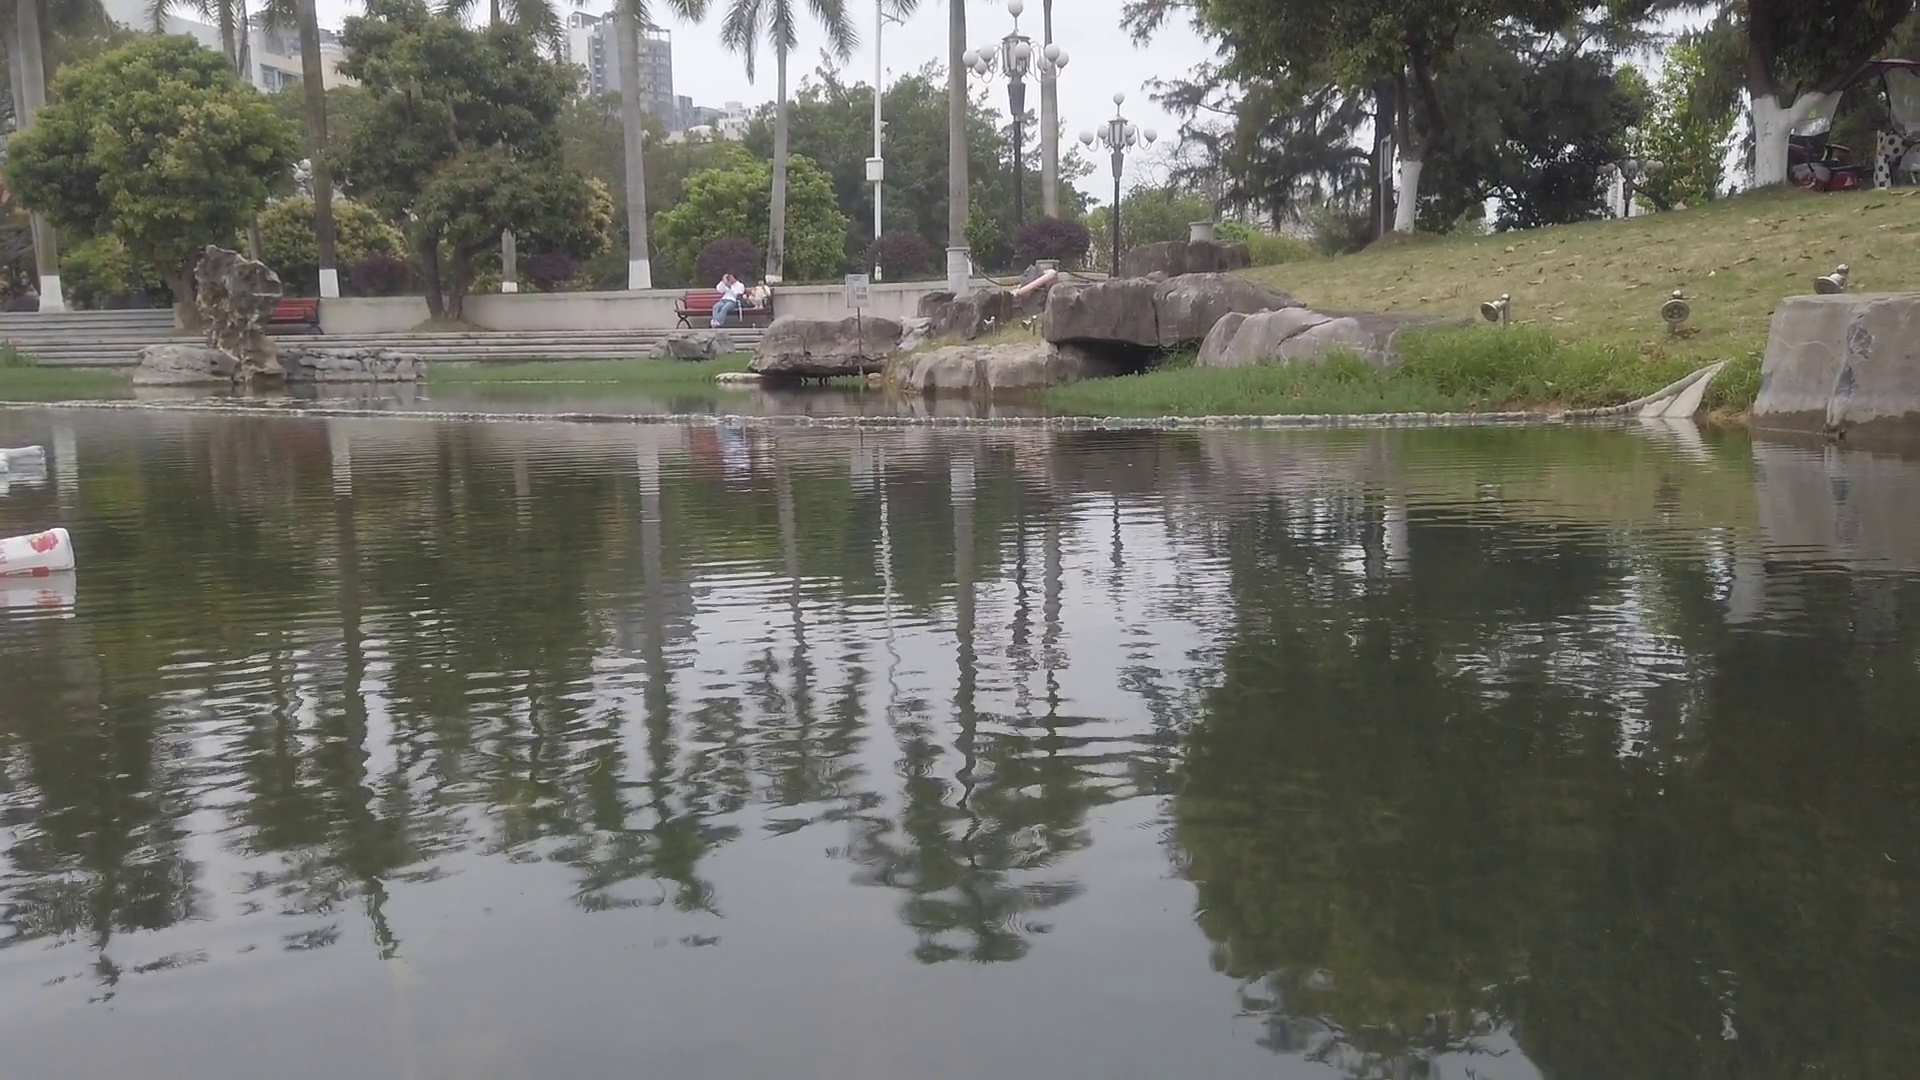bottle: (3, 529, 76, 579), (1, 438, 49, 484)
